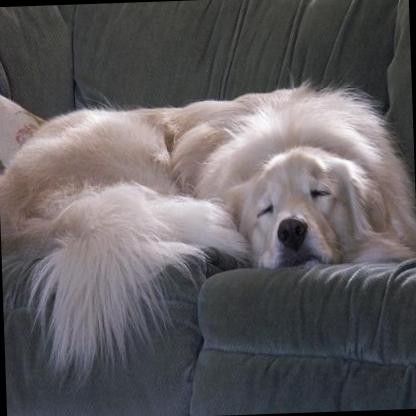kuvasz: (0, 62, 416, 387)
